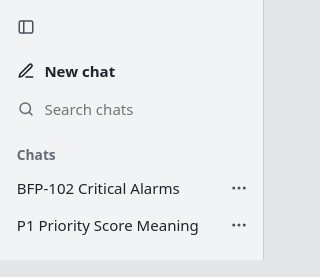
Test case: says when nothing matches
This screenshot has width=320, height=277.
Type "compressor" into the search field labelled "Search chats" at (145, 109), box [44,93,246,125]
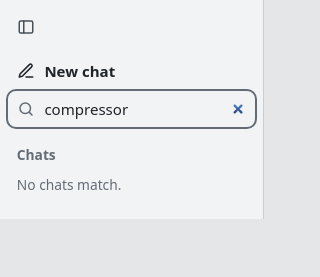
Check: the text "No chats match." is shown, box [17,175,121,194]
